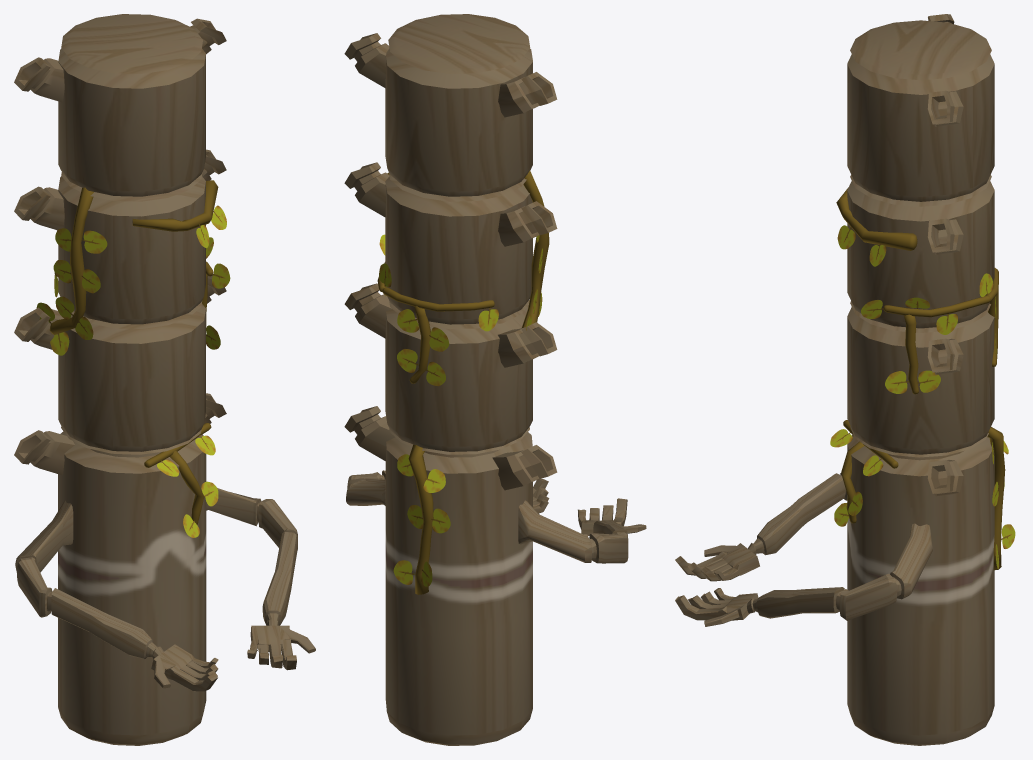
File: mdlLynxShrine.fbx
3 views of the same model, side by side, from view 1: azimuth 30°, elevation 25°; view 2: azimuth 150°, elevation 25°; view 3: azimuth 270°, elevation 25° (orthographic).
Visible parts, largest first — view 1: Pole, Vines; view 2: Pole, Vines; view 3: Pole, Vines.
Part boxes in pixels (bbox=[...]): Pole: bbox=[14, 14, 315, 745]; Vines: bbox=[36, 180, 230, 537]; Pole: bbox=[344, 14, 646, 745]; Vines: bbox=[377, 170, 549, 594]; Pole: bbox=[675, 14, 994, 745]; Vines: bbox=[830, 187, 1015, 570].
Size of the model in its own units: 2.45 by 6.13 by 2.85.
2 materials, 2 textured.
